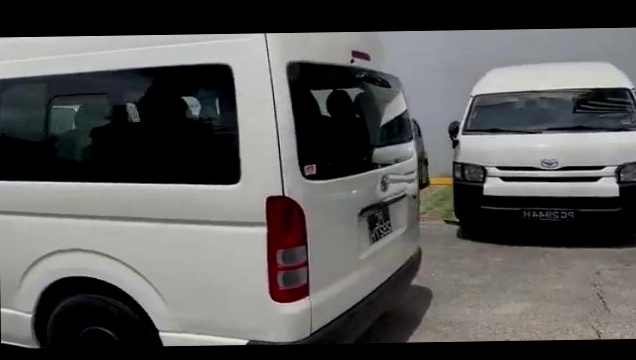van: (435, 60, 636, 233)
